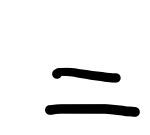eqv: (39, 61, 143, 119)
